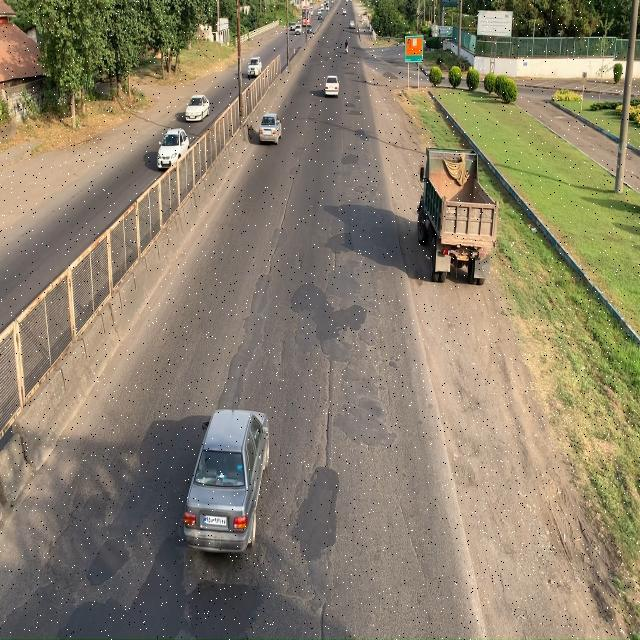Truck: (411, 150, 494, 290)
cars: (185, 409, 270, 551), (158, 126, 189, 169)
